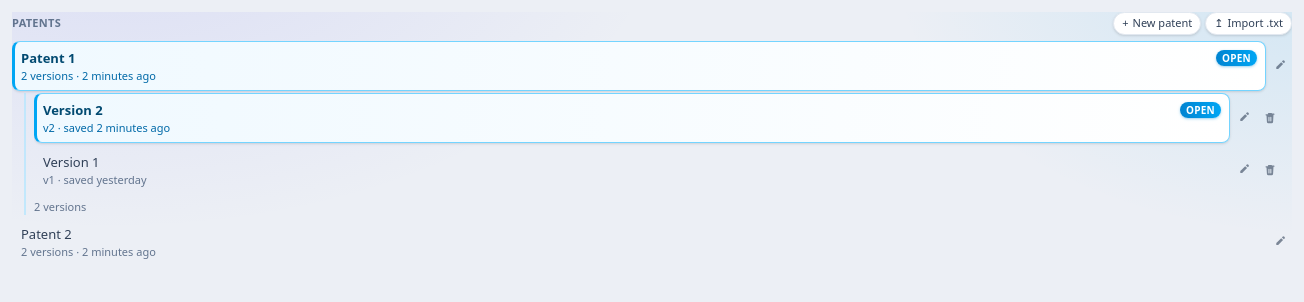
Test: PatentTree › commits a rename on Enter and abandons it on Escape
Click the button named "Rename patent \"Patent 1\"" at (1280, 66), box [1268,40,1292,90]
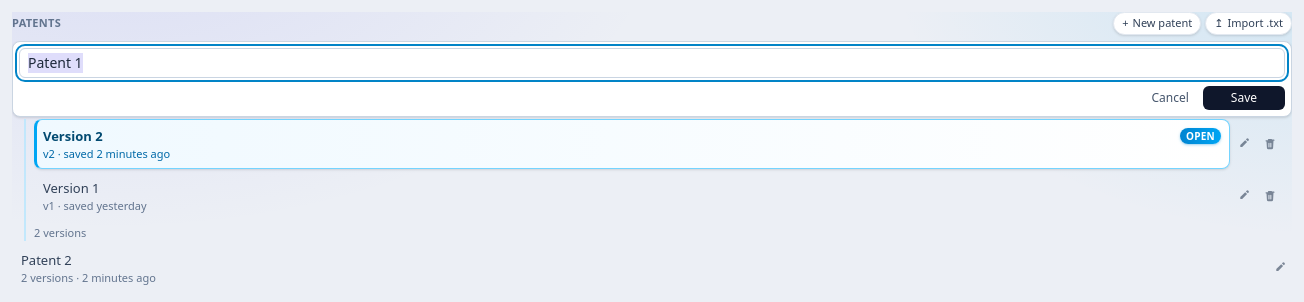
Type " draft" into the field named "Rename patent \"Patent 1\"" at (652, 62), box [19,48,1285,78]
Then press Enter
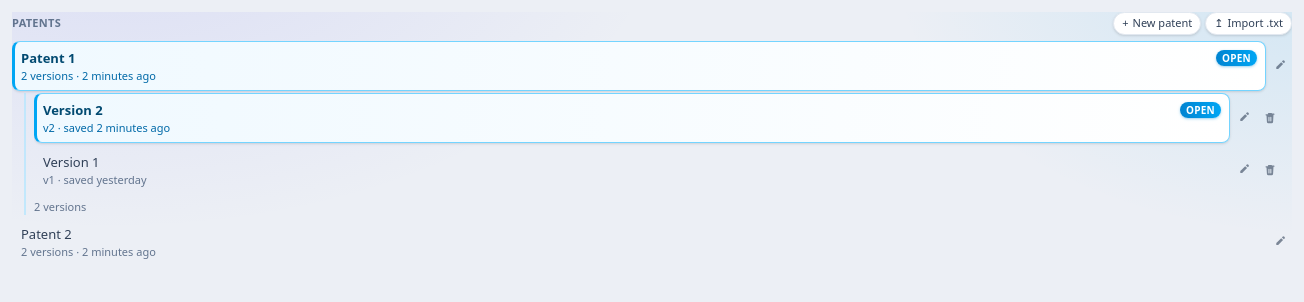
Result: the field is gone
Click the button named "Rename version 1" at (1244, 170), box [1232,144,1256,194]
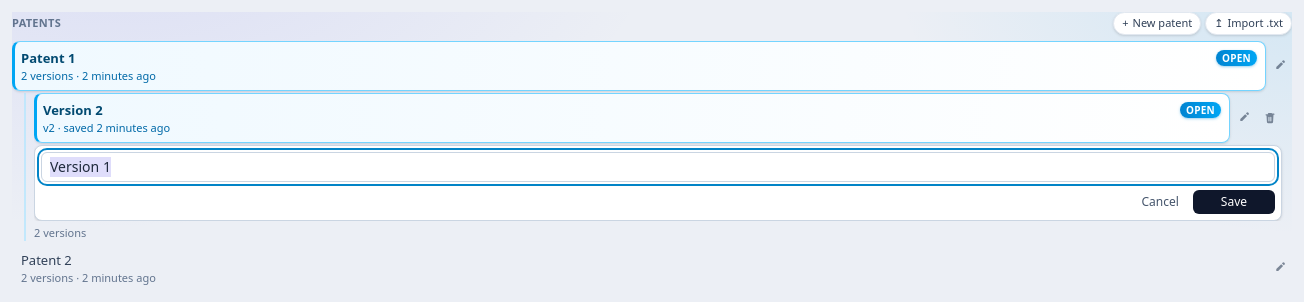
Type " again" into the field named "Rename version 1" at (658, 166), box [41,152,1275,182]
Then press Escape
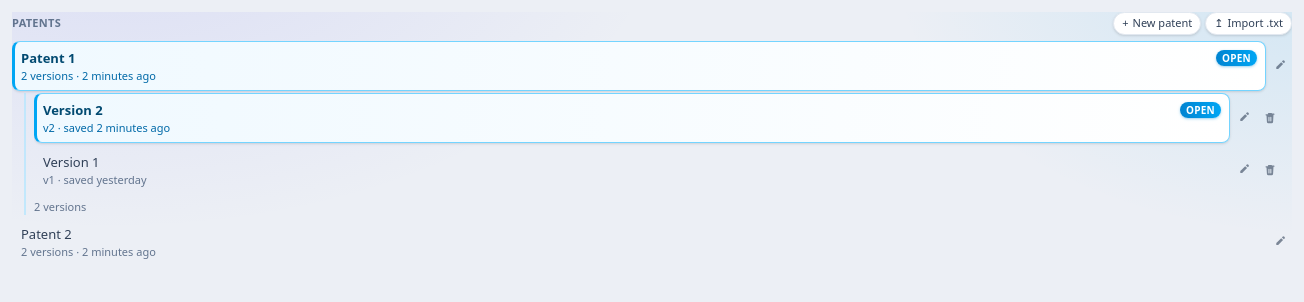
Result: the field is gone
